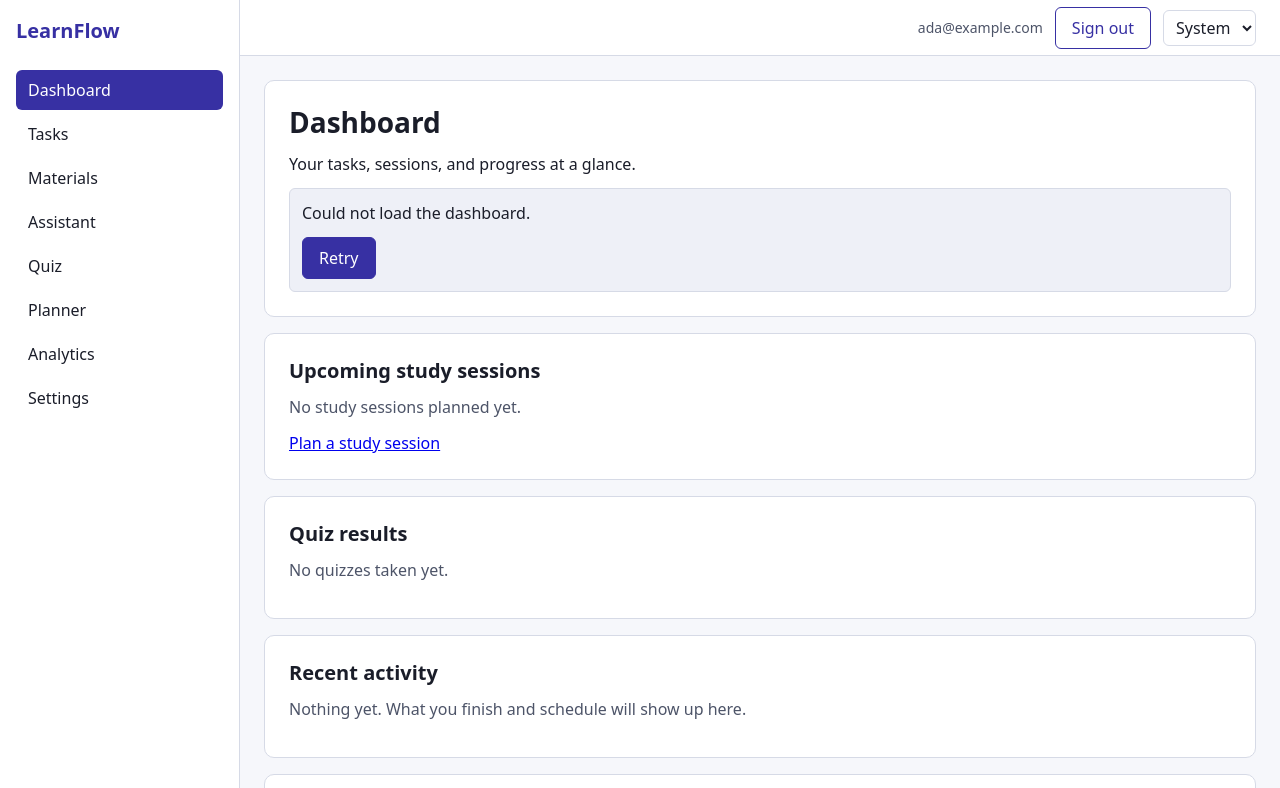
Test case: dashboard › shows an error with a retry
Expected: the message shows "Could not load the dashboard.", [302,202,530,224]
Click the button "Retry" at (339,258), box [302,237,376,279]
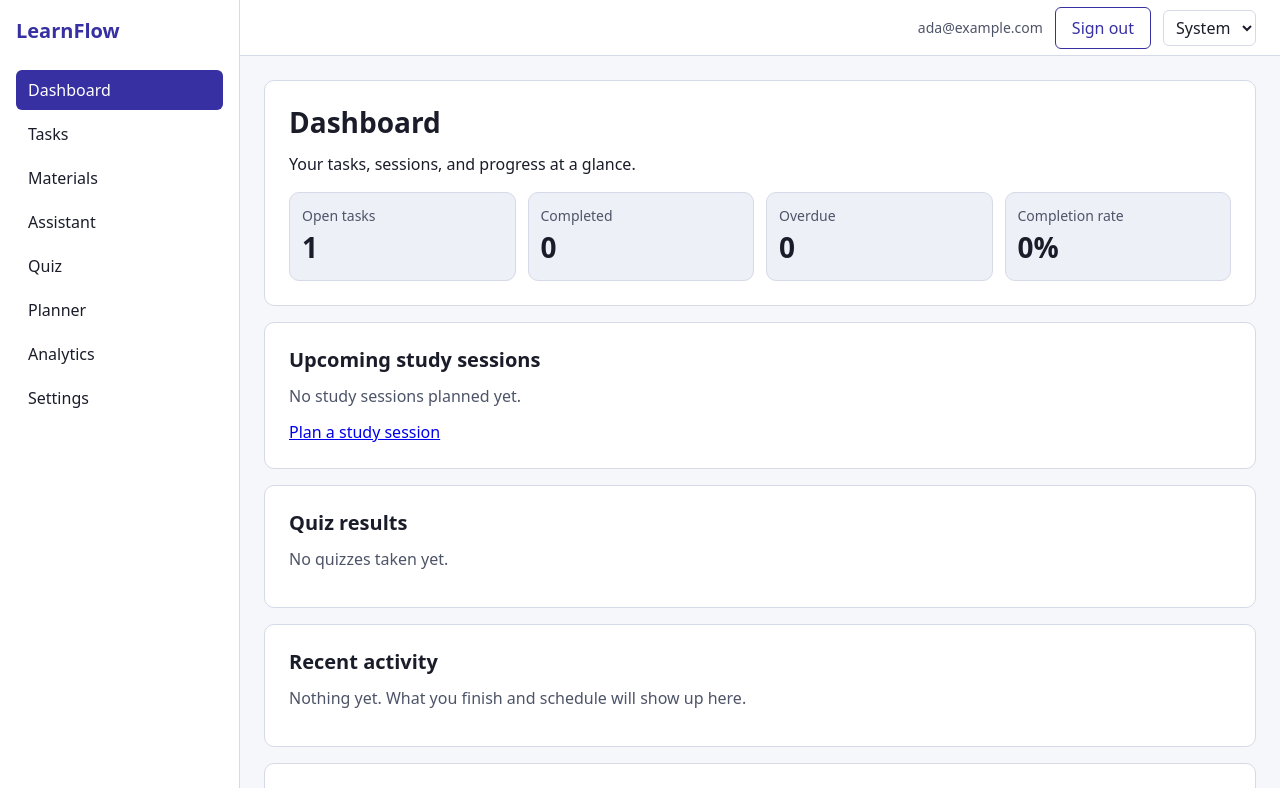
Expected: the element named "Task statistics" is shown, [289,192,1231,281]
